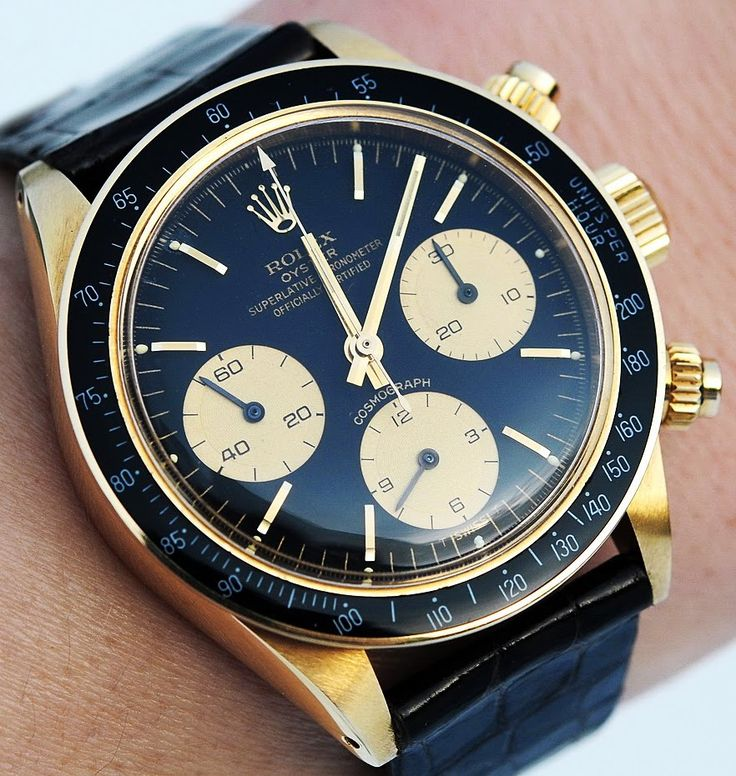clock: (58, 56, 667, 647)
